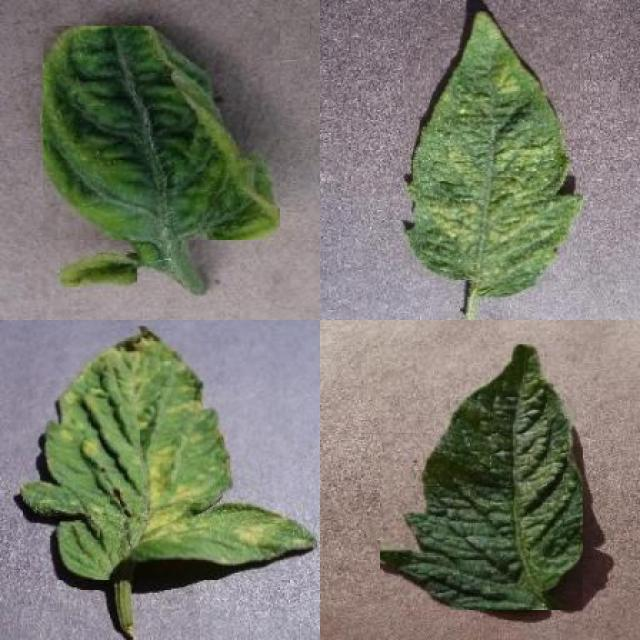Leaf Mold: (22, 326, 318, 580)
Spider Mites: (380, 344, 583, 610), (403, 12, 583, 297)
Yellow Leaf Curl Virus: (44, 26, 280, 240), (60, 253, 137, 287)
